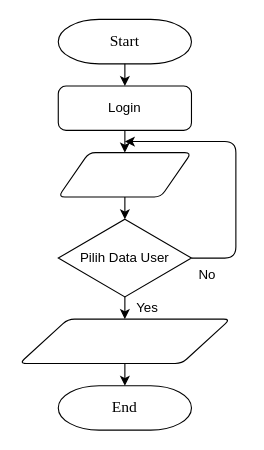
The diagram is 264 pixels wide and 450 high, and some of its shapes have lost their labels. Each missing label, with the box of its shape:
Pilih menu: (57, 152, 191, 197)
Tampil Menu Data User: (18, 318, 230, 364)
